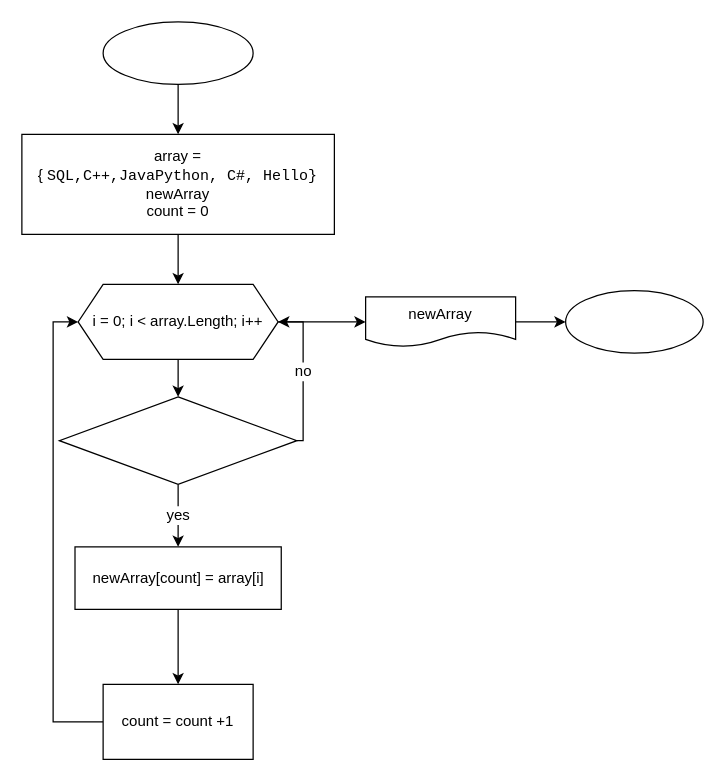
The diagram is 725 pixels wide and 781 high, and some of its shapes have lost their labels. The box of each missing label's shape, as (x1, y1, x2, y2) in pixels:
array[i].Length <=3: (58, 396, 297, 484)
Finish: (564, 289, 703, 353)
Start: (102, 21, 253, 84)
